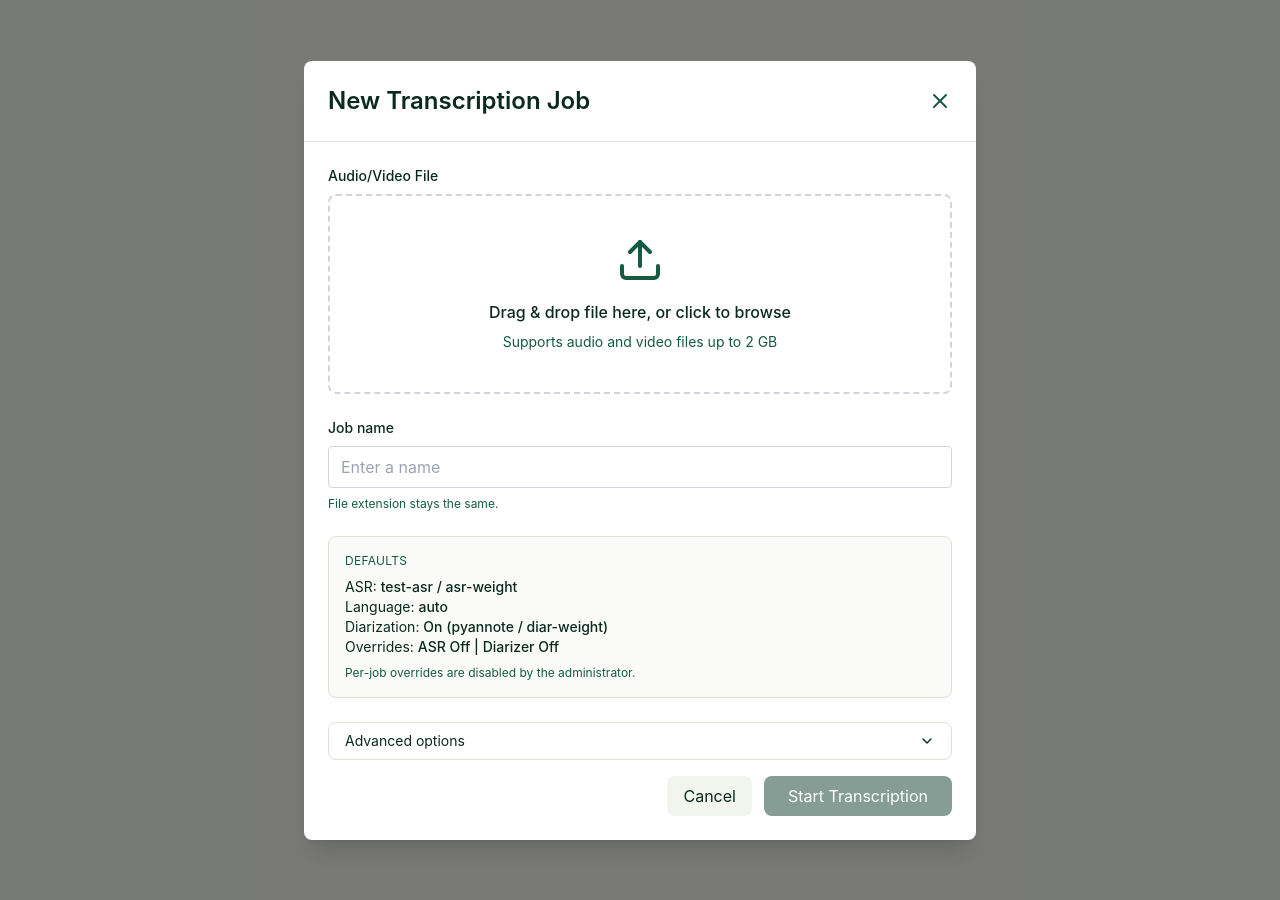
Test: NewJobModal › hides override controls when admin disables per-job overrides
The width and height of the screenshot is (1280, 900).
Click the button with test id "advanced-toggle".
click(405, 740)  # box [328,722,952,760]
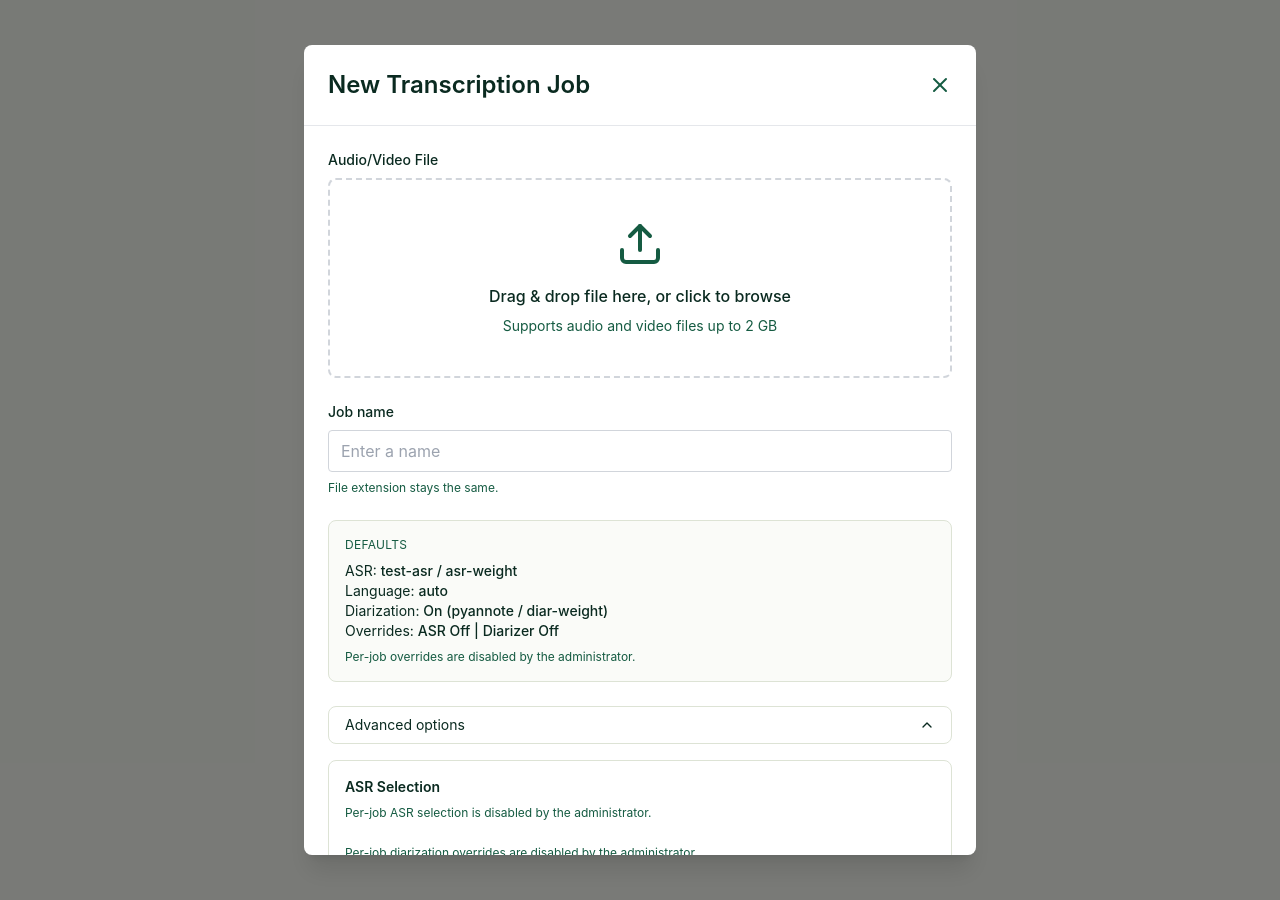
Expected: the element with test id "advanced-panel" is shown, [328,760,952,855]
Expected: the text "Per-job ASR selection is disabled by the administrator." is shown, [345,805,651,820]
Expected: the text "Per-job diarization overrides are disabled by the administrator" is shown, [345,845,698,855]
